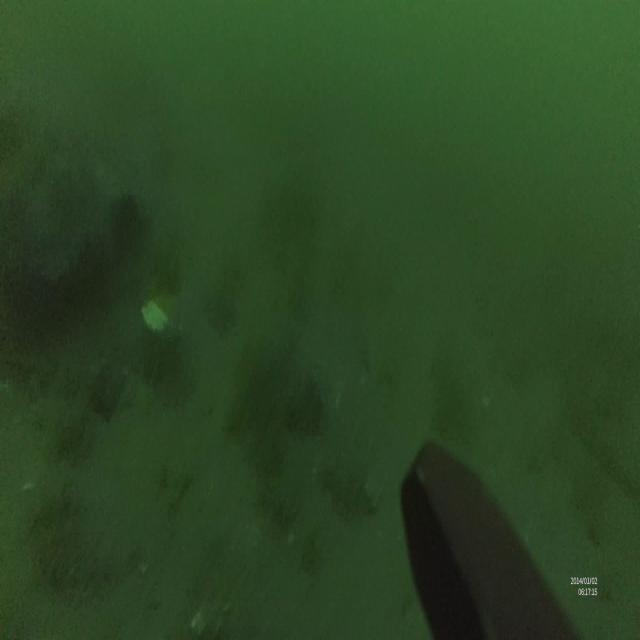echinus: (110, 188, 143, 242)
